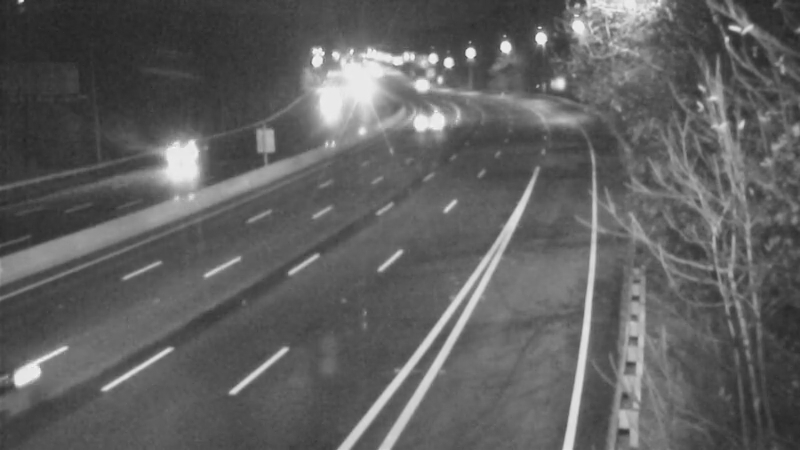vehicle: (132, 122, 212, 202), (393, 59, 443, 109), (411, 93, 461, 143), (305, 81, 355, 131)
